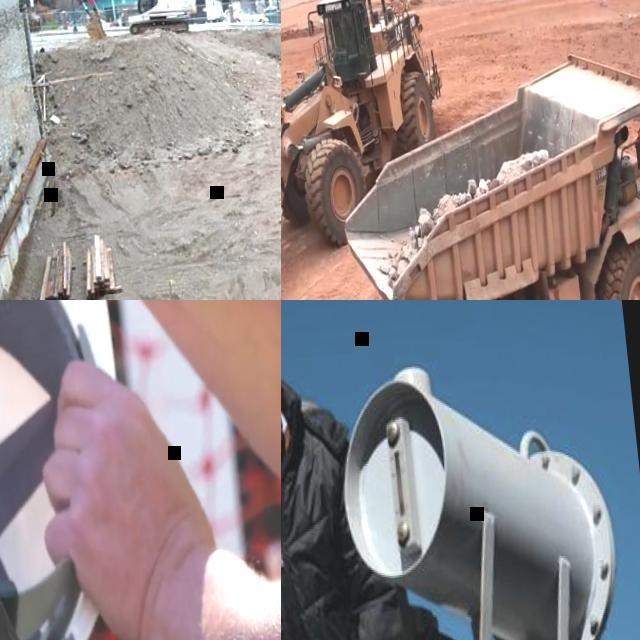helmet: (0, 300, 148, 640)
